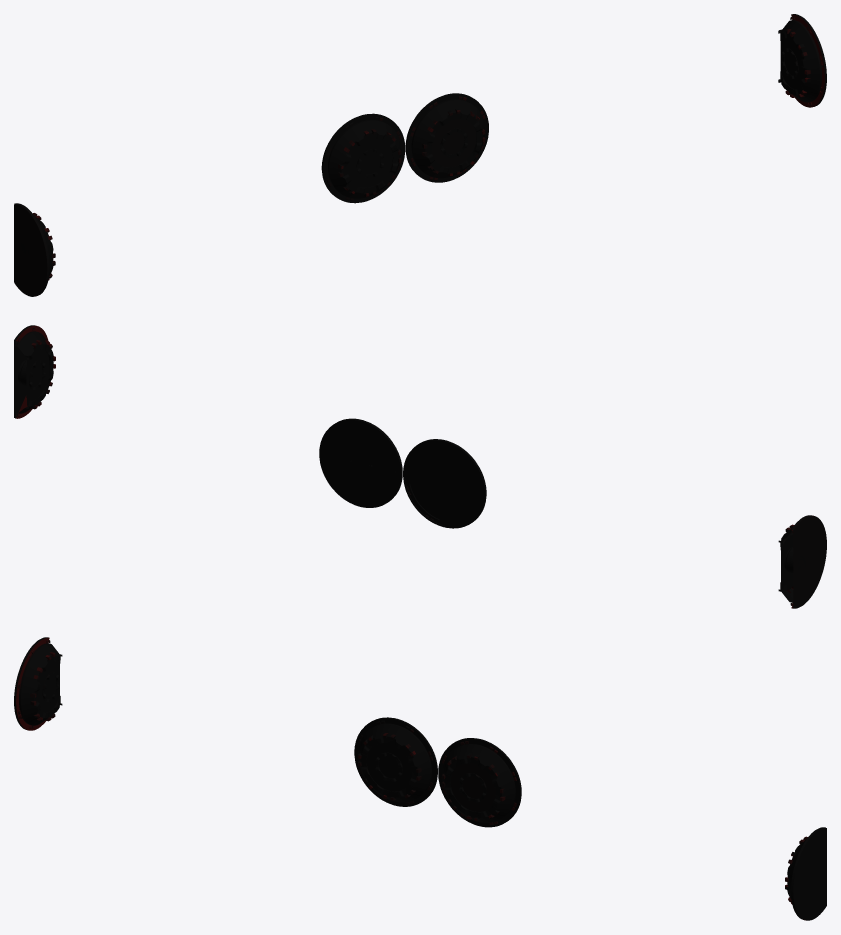
Rendered from Encounter_001_Walls_005_Details.fbx.
The picture shows the model from 3 angles, top to bottom: view 1: azimuth 30°, elevation 25°; view 2: azimuth 150°, elevation 25°; view 3: azimuth 330°, elevation 25°; orthographic projection.
Parts seen in each view (by area): view 1: Encounter_001_Walls_005_Details; view 2: Encounter_001_Walls_005_Details; view 3: Encounter_001_Walls_005_Details.
Part boxes in pixels (bbox=[...]): Encounter_001_Walls_005_Details: bbox=[14, 14, 826, 296]; Encounter_001_Walls_005_Details: bbox=[14, 325, 826, 608]; Encounter_001_Walls_005_Details: bbox=[14, 637, 826, 920].
Size of the model in its own units: 6000 by 635 by 453.
